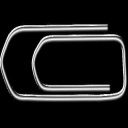Metal: (1, 21, 128, 105)
